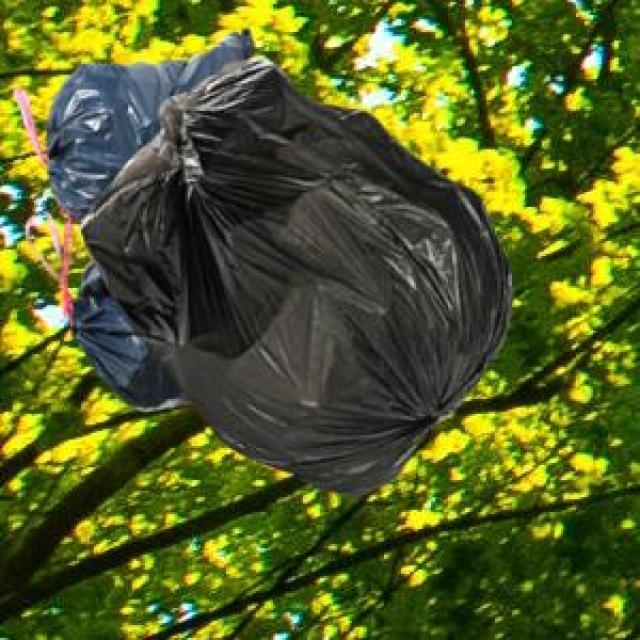Trashbag: (74, 57, 512, 498)
